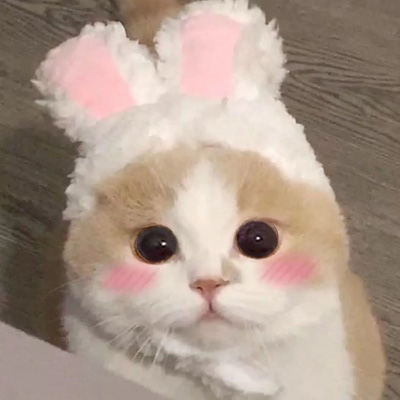cat: (50, 106, 359, 386)
